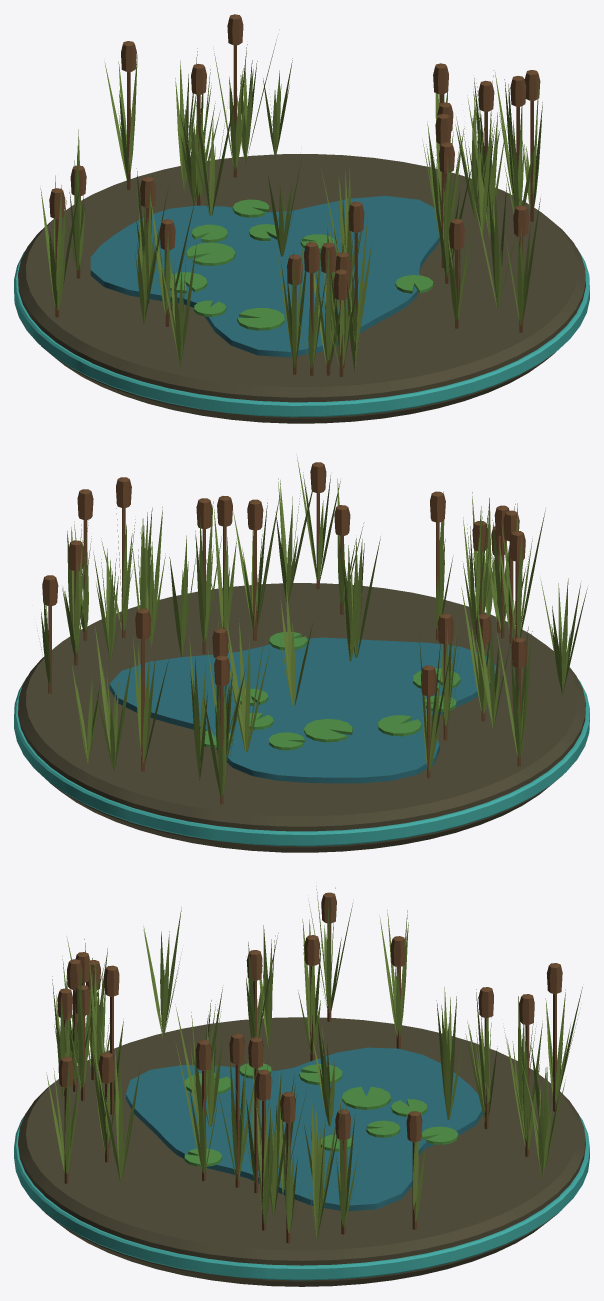
The model's file is cuenca_humedal.src.glb.
3 views of the same model, one above another, from view 1: azimuth 30°, elevation 25°; view 2: azimuth 150°, elevation 25°; view 3: azimuth 270°, elevation 25° (orthographic).
Parts seen in each view (by area): view 1: geo_base, geo_detail, geo_water; view 2: geo_base, geo_detail, geo_water; view 3: geo_base, geo_detail, geo_water.
Part boxes in pixels (bbox=[...]): geo_base: bbox=[14, 154, 589, 423]; geo_detail: bbox=[40, 14, 542, 376]; geo_water: bbox=[90, 196, 439, 357]; geo_base: bbox=[14, 583, 589, 852]; geo_detail: bbox=[37, 457, 587, 804]; geo_water: bbox=[109, 637, 496, 783]; geo_base: bbox=[14, 1017, 589, 1286]; geo_detail: bbox=[46, 886, 582, 1243]; geo_water: bbox=[126, 1047, 482, 1211].
Size of the model in its own units: 0.1116 by 0.0426 by 0.1116.
